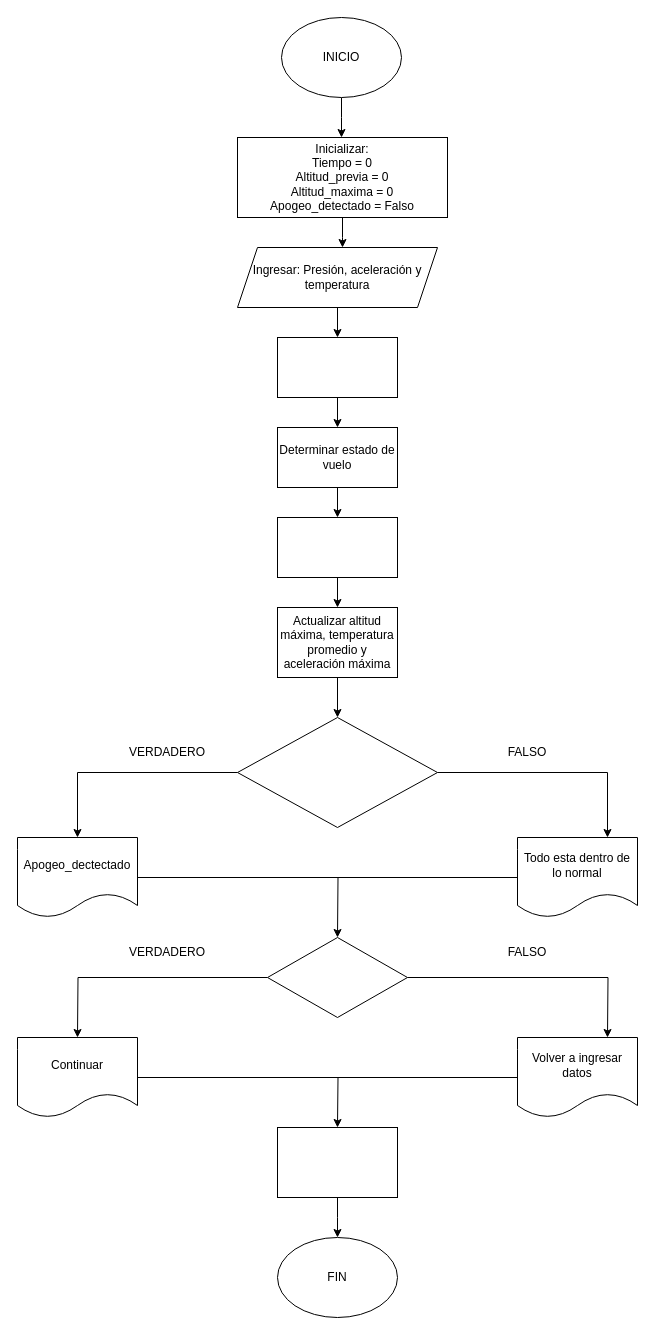
Image size: 655x1335. Some labels were removed from this diagram. The shapes that lost their labels are listed below. From the top down, each one's centre as x and y in pixels, then its label:
the point at 337,367: Calcular altitud actual
the point at 337,547: Evaluar alerta de temperatura
the point at 337,772: ¿Altitud actual < altitud previa y no se ha dectectado apogeo?
the point at 337,977: ¿Altitud ≤ 0 o el operador finalizó?
the point at 337,1162: Mostrar altitud máxima, temperatura promedio y acelaración máxima
